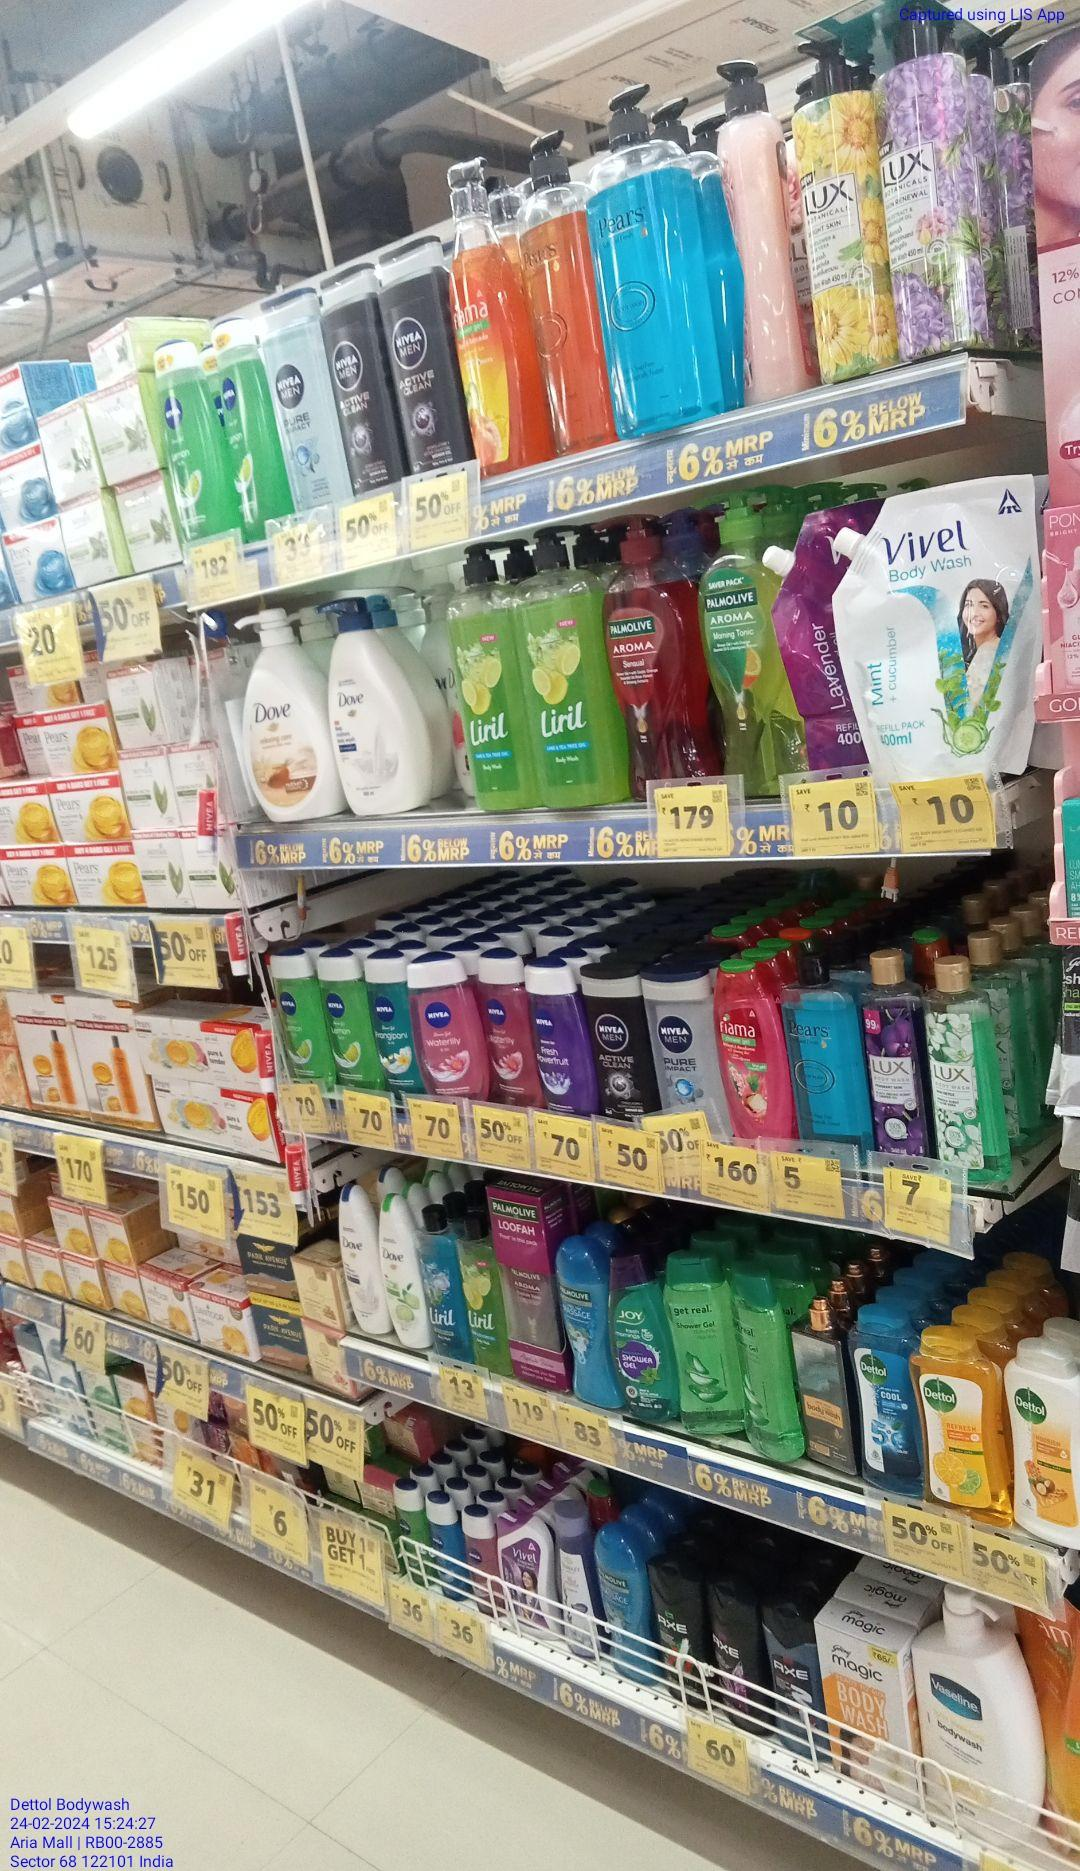Dettol_Bodywash_Cool: (849, 1303, 922, 1498)
Dettol_Bodywash_Refresh: (930, 1335, 1007, 1528)
Dettol_Nourish_Body_Wash_250ML: (1012, 1336, 1080, 1539)
Dove_Deep_Moisture_Body_Wash_250ML: (342, 1185, 377, 1331)
Dove_Refreshing_Body_Wash_250ML: (383, 1198, 428, 1353)
Fiama_Shower_Gel_Patchouli_and_Macadamia_250ML: (719, 960, 788, 1133)
Joy_Shower_Gel_Mint_and_Eucalyptus_250ML: (617, 1252, 672, 1424)
Liril_Cooling_Mint_Body_Wash_250ML: (435, 1210, 469, 1361)
Lux_Black_Orchid_Scent_and_Juniper_Oil_Body_Wash_245ML: (872, 946, 924, 1153)
Lux_Body_Wash_Skin_Detox_Freesia_Scent_and_Alove_Vera_245ML: (931, 953, 1008, 1158)
Nivea_Shower_Gel_Frangipani_and_Oil_250ML: (377, 947, 417, 1088)
Nivea_Shower_Gel_Fresh_Powerfruit_250ML: (543, 966, 595, 1112)
Nivea_Shower_Gel_Lemon_and_Oil_250ML: (147, 339, 210, 542), (269, 951, 328, 1091), (334, 947, 373, 1085)
Nivea_Shower_Gel_Waterlily_and_Oil_250ML: (423, 953, 480, 1097), (491, 952, 539, 1103)
Palmolive_Aroma_Moments_Feel_The_Massage_Shower_Gel_250ML: (598, 1524, 653, 1687), (563, 1234, 613, 1412)
Pears_Pure_Glycerin_and_Mint_Extracts_Body_Wash_250ML: (793, 948, 867, 1144)
